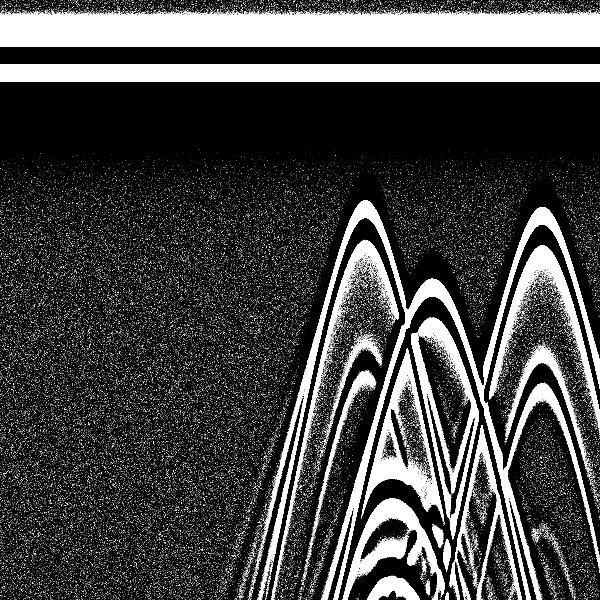pipe: (377, 6, 482, 374), (314, 6, 415, 296), (494, 3, 591, 279)
